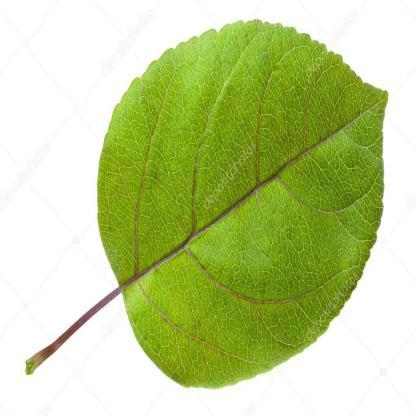Apple leaf: (86, 9, 394, 402)
